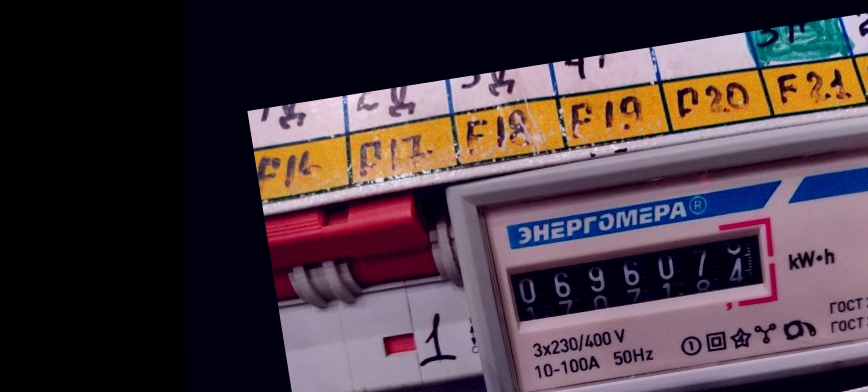0: (515, 273, 541, 306), (655, 250, 678, 282)
4: (724, 254, 747, 286)
6: (620, 255, 644, 289), (551, 267, 574, 299)
7: (690, 244, 712, 277)
9: (585, 262, 610, 294)
screen: (493, 209, 787, 344)
